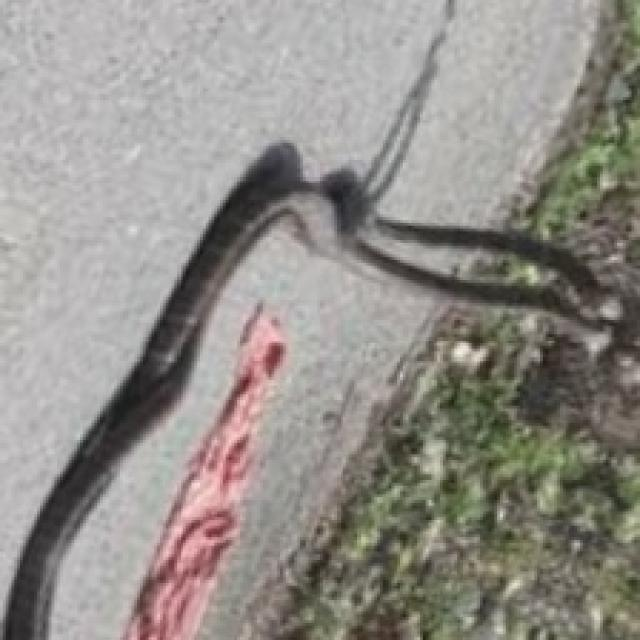king cobra: (0, 0, 443, 614), (49, 229, 443, 637), (377, 0, 594, 223)
